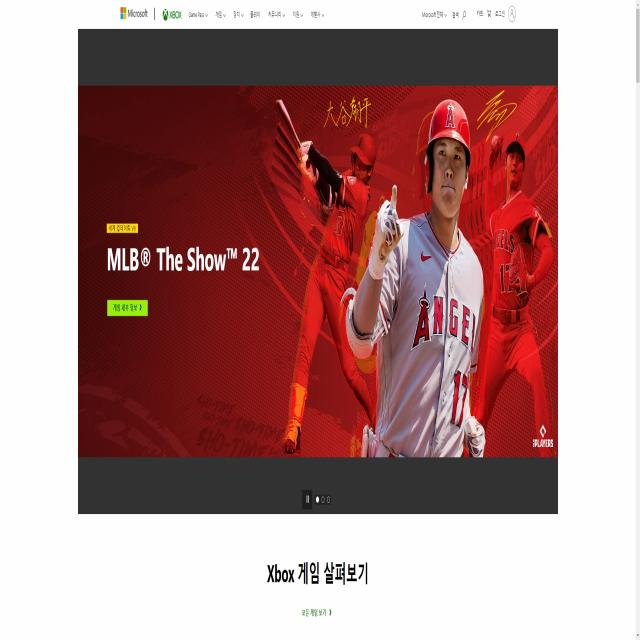menu-bar: (418, 3, 518, 24)
tab-bar: (117, 4, 325, 26)
